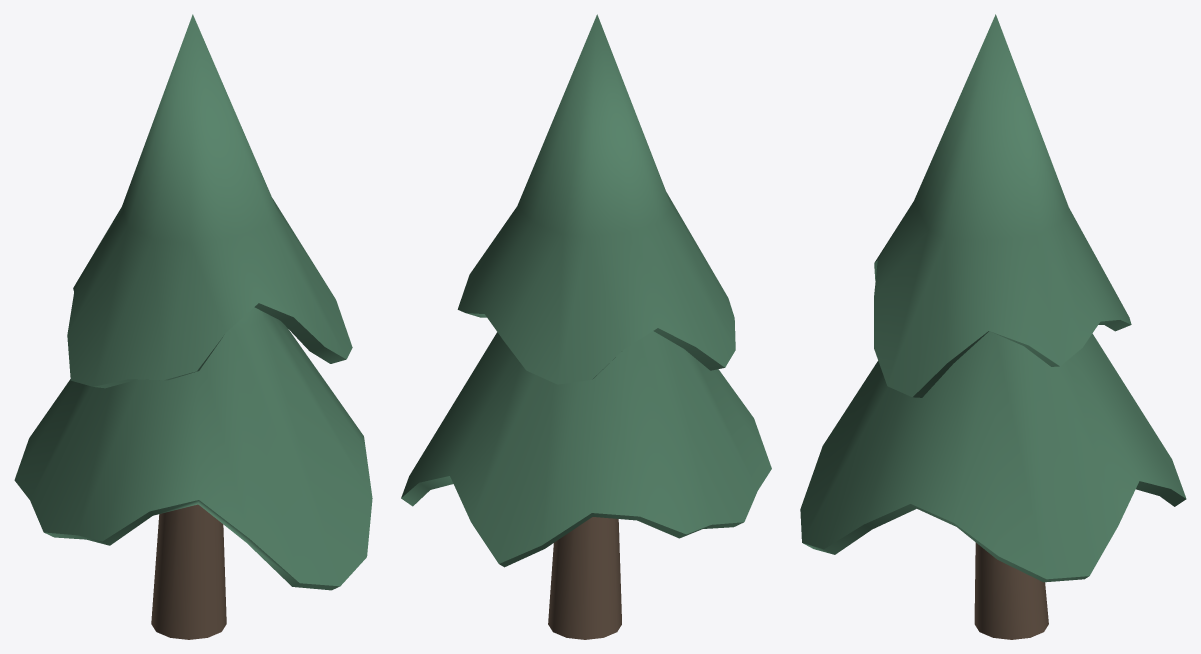
Rendered from Tree_4.glb.
3 views of the same model, side by side, from view 1: azimuth 30°, elevation 25°; view 2: azimuth 150°, elevation 25°; view 3: azimuth 270°, elevation 25° (orthographic).
Visible parts, largest first — view 1: Tree_4; view 2: Tree_4; view 3: Tree_4.
Part boxes in pixels (bbox=[...]): Tree_4: bbox=[14, 14, 372, 639]; Tree_4: bbox=[401, 14, 771, 639]; Tree_4: bbox=[800, 14, 1186, 639].
Size of the model in its own units: 1.31 by 2.45 by 1.41.
1 material, 1 textured.
